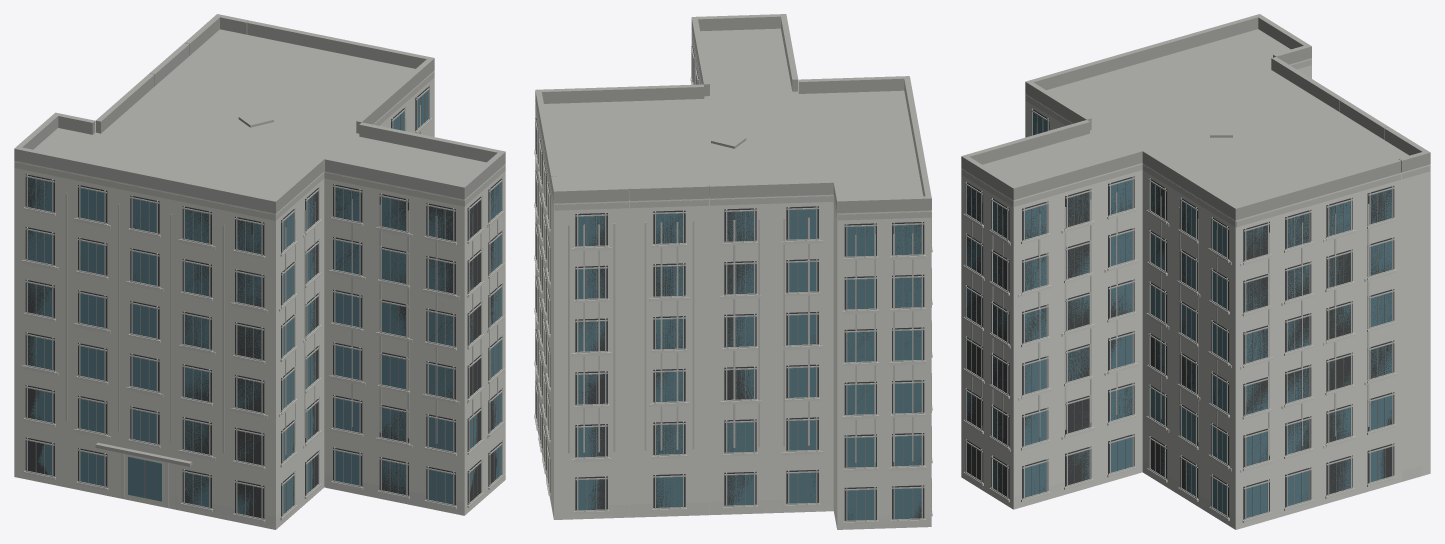
The model's file is cop_residencial_anos70_01__way_488128338.fbx.
3 views of the same model, side by side, from view 1: azimuth 30°, elevation 25°; view 2: azimuth 150°, elevation 25°; view 3: azimuth 270°, elevation 25° (orthographic). The views are drawn at different scales.
Parts seen in each view (by area): view 1: cop_residencial_anos70_01__way_488128338_wall, cop_residencial_anos70_01__way_488128338_roof, cop_residencial_anos70_01__way_488128338_glass, cop_residencial_anos70_01__way_488128338_trim, cop_residencial_anos70_01__way_488128338_shadow, cop_residencial_anos70_01__way_488128338_stone, cop_residencial_anos70_01__way_488128338_metal; view 2: cop_residencial_anos70_01__way_488128338_wall, cop_residencial_anos70_01__way_488128338_roof, cop_residencial_anos70_01__way_488128338_glass, cop_residencial_anos70_01__way_488128338_trim, cop_residencial_anos70_01__way_488128338_shadow, cop_residencial_anos70_01__way_488128338_stone, cop_residencial_anos70_01__way_488128338_metal; view 3: cop_residencial_anos70_01__way_488128338_wall, cop_residencial_anos70_01__way_488128338_roof, cop_residencial_anos70_01__way_488128338_shadow, cop_residencial_anos70_01__way_488128338_glass, cop_residencial_anos70_01__way_488128338_trim, cop_residencial_anos70_01__way_488128338_stone, cop_residencial_anos70_01__way_488128338_metal.
Boxes of the visible parts, x1,y1,x2,y2 form: cop_residencial_anos70_01__way_488128338_wall: (14, 70, 505, 529); cop_residencial_anos70_01__way_488128338_roof: (14, 14, 505, 466); cop_residencial_anos70_01__way_488128338_glass: (28, 90, 501, 515); cop_residencial_anos70_01__way_488128338_trim: (14, 72, 505, 519); cop_residencial_anos70_01__way_488128338_shadow: (25, 85, 502, 519); cop_residencial_anos70_01__way_488128338_stone: (15, 118, 505, 529); cop_residencial_anos70_01__way_488128338_metal: (35, 93, 498, 516); cop_residencial_anos70_01__way_488128338_wall: (535, 30, 931, 529); cop_residencial_anos70_01__way_488128338_roof: (535, 14, 931, 213); cop_residencial_anos70_01__way_488128338_glass: (536, 57, 921, 520); cop_residencial_anos70_01__way_488128338_trim: (535, 31, 931, 522); cop_residencial_anos70_01__way_488128338_shadow: (535, 44, 924, 520); cop_residencial_anos70_01__way_488128338_stone: (534, 77, 932, 529); cop_residencial_anos70_01__way_488128338_metal: (536, 53, 913, 520); cop_residencial_anos70_01__way_488128338_wall: (961, 58, 1430, 529); cop_residencial_anos70_01__way_488128338_roof: (961, 14, 1430, 220); cop_residencial_anos70_01__way_488128338_shadow: (965, 108, 1394, 519); cop_residencial_anos70_01__way_488128338_glass: (966, 112, 1391, 518); cop_residencial_anos70_01__way_488128338_trim: (961, 59, 1430, 520); cop_residencial_anos70_01__way_488128338_stone: (961, 208, 1425, 529); cop_residencial_anos70_01__way_488128338_metal: (971, 115, 1385, 516).
Size of the model in its own units: 2432 by 1869 by 2474.
